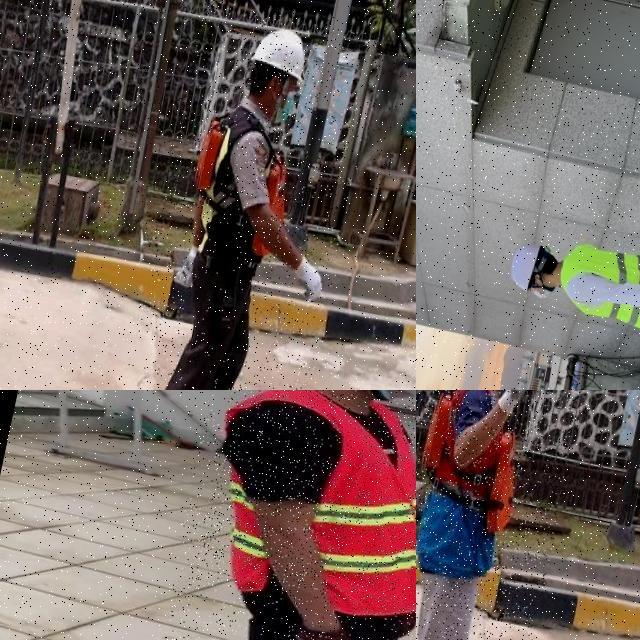helmet: (248, 19, 318, 90), (504, 235, 545, 299)
vest: (189, 390, 416, 627), (416, 390, 539, 580), (180, 103, 308, 265), (547, 236, 640, 336)
